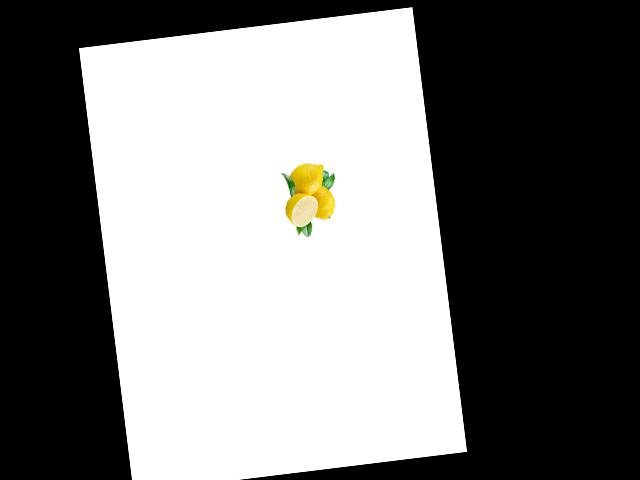lemon: (283, 158, 331, 199)
